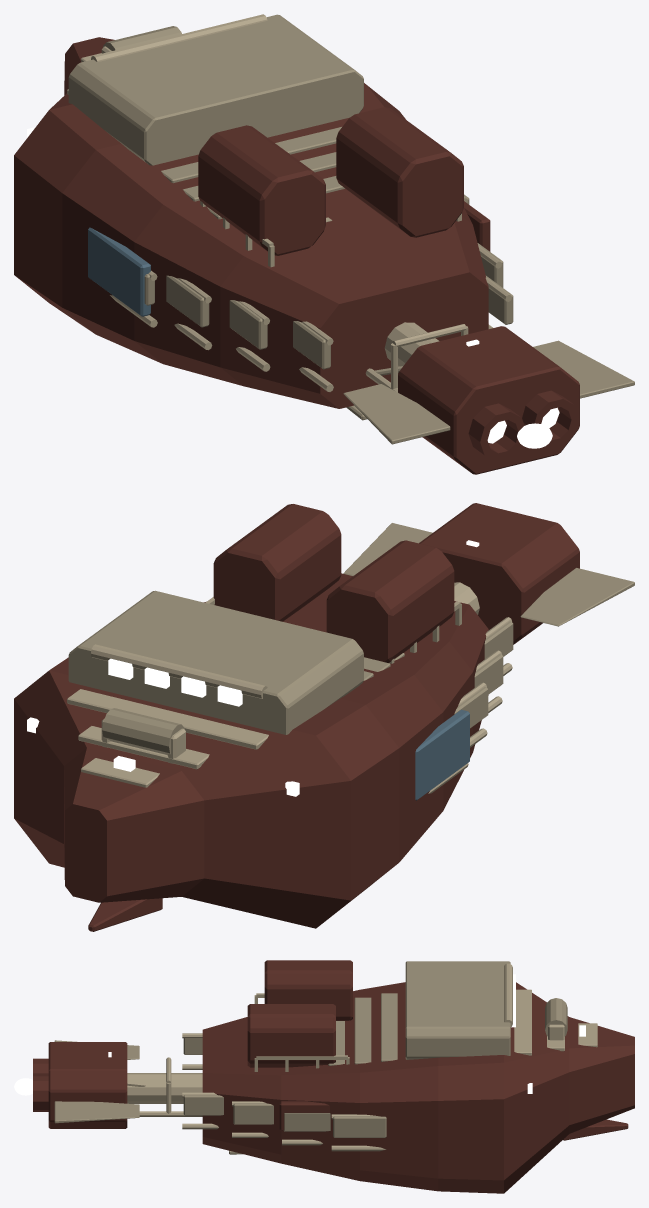
3 renders of one model, top to bottom at view 1: azimuth 30°, elevation 25°; view 2: azimuth 150°, elevation 25°; view 3: azimuth 270°, elevation 25°, orthographic. The views are drawn at different scales.
Visible parts, largest first — view 1: RIMWARD_HULL, RIMWARD_ENGINE_GLOW, RIMWARD_EMISSIVE; view 2: RIMWARD_HULL, RIMWARD_EMISSIVE; view 3: RIMWARD_HULL.
Boxes of the visible parts, x1,y1,x2,y2 form: RIMWARD_HULL: (14, 14, 634, 474); RIMWARD_ENGINE_GLOW: (517, 423, 552, 448); RIMWARD_EMISSIVE: (27, 127, 559, 443); RIMWARD_HULL: (14, 503, 634, 931); RIMWARD_EMISSIVE: (27, 540, 479, 796); RIMWARD_HULL: (33, 960, 634, 1193).
Bounding box in the file's own units: 3.15 × 2.14 × 7.39.
